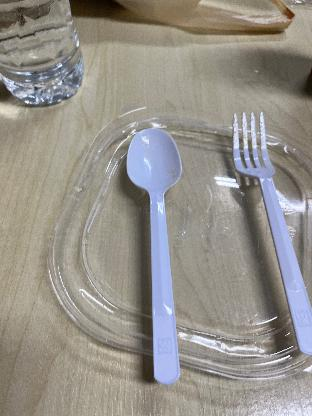Others: (114, 119, 212, 383), (226, 93, 312, 361)
